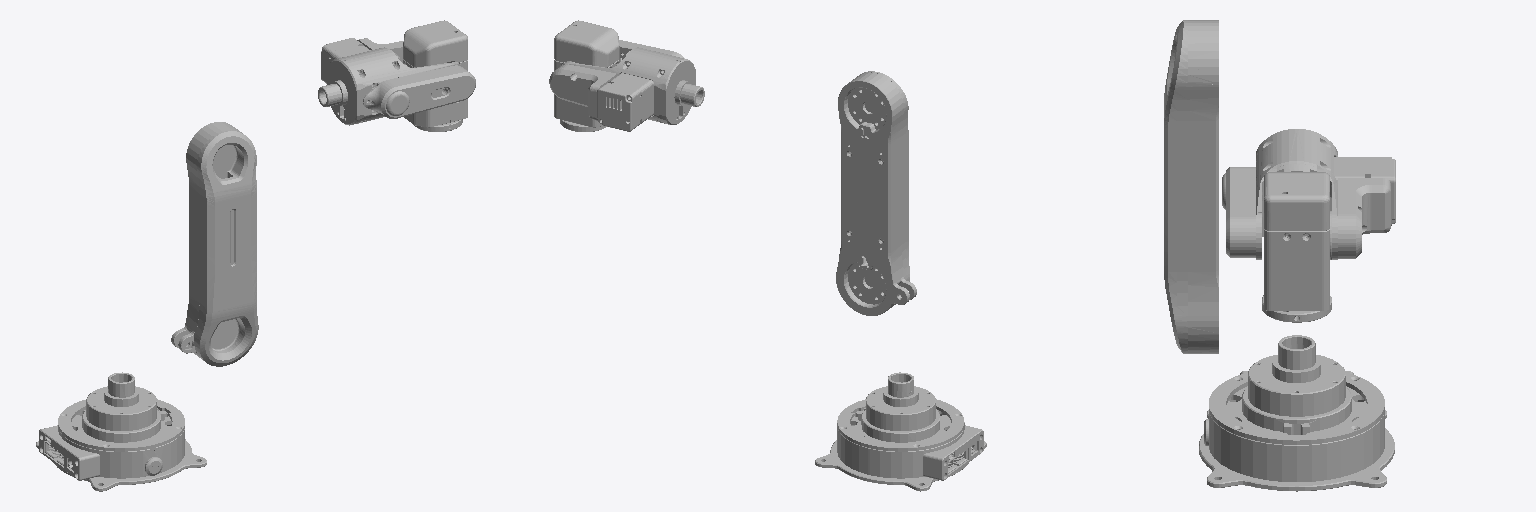
The robot description file, URDF, robot "wlkata_haro380_description":
<?xml version="1.0" encoding="utf-8"?>
<!-- This URDF was automatically created by SolidWorks to URDF Exporter! Originally created by Stephen Brawner (brawner@gmail.com) 
     Commit Version: 1.6.0-4-g7f85cfe  Build Version: 1.6.7995.38578
     For more information, please see http://wiki.ros.org/sw_urdf_exporter -->
<robot
  name="wlkata_haro380_description">
  <link
    name="base_link">
    <inertial>
      <origin
        xyz="-0.0025782 -0.00097364 0.018547"
        rpy="0 0 0" />
      <mass
        value="0.64687" />
      <inertia
        ixx="0.00045823"
        ixy="2.0774E-08"
        ixz="5.7263E-06"
        iyy="0.00042235"
        iyz="1.2147E-06"
        izz="0.00070695" />
    </inertial>
    <visual>
      <origin
        xyz="0 0 0"
        rpy="0 0 0" />
      <geometry>
        <mesh
          filename="package://wlkata_haro380_description/meshes/base_link.STL" />
      </geometry>
      <material
        name="">
        <color
          rgba="0.75294 0.75294 0.75294 1" />
      </material>
    </visual>
    <collision>
      <origin
        xyz="0 0 0"
        rpy="0 0 0" />
      <geometry>
        <mesh
          filename="package://wlkata_haro380_description/meshes/base_link.STL" />
      </geometry>
    </collision>
  </link>
  <link
    name="link1">
    <inertial>
      <origin
        xyz="0.013934 0.0042765 -0.018206"
        rpy="0 0 0" />
      <mass
        value="2.3532" />
      <inertia
        ixx="0.00085392"
        ixy="1.1941E-06"
        ixz="-4.1396E-05"
        iyy="0.0012482"
        iyz="2.3687E-07"
        izz="0.0015523" />
    </inertial>
    <visual>
      <origin
        xyz="0 0 0"
        rpy="0 0 0" />
      <geometry>
        <mesh
          filename="package://wlkata_haro380_description/meshes/link1.STL" />
      </geometry>
      <material
        name="">
        <color
          rgba="0.75294 0.75294 0.75294 1" />
      </material>
    </visual>
    <collision>
      <origin
        xyz="0 0 0"
        rpy="0 0 0" />
      <geometry>
        <mesh
          filename="package://wlkata_haro380_description/meshes/link1.STL" />
      </geometry>
    </collision>
  </link>
  <joint
    name="joint1"
    type="revolute">
    <origin
      xyz="0 0 0.1046"
      rpy="0 0 0" />
    <parent
      link="base_link" />
    <child
      link="link1" />
    <axis
      xyz="0 0 1" />
    <limit
      lower="-2.443"
      upper="3.316"
      effort="100.1"
      velocity="3.14" />
  </joint>
  <link
    name="link2">
    <inertial>
      <origin
        xyz="0.066111 -0.00022303 -0.053301"
        rpy="0 0 0" />
      <mass
        value="0.70509" />
      <inertia
        ixx="0.00016347"
        ixy="-1.0521E-05"
        ixz="2.224E-06"
        iyy="0.0020532"
        iyz="-2.4325E-08"
        izz="0.0021981" />
    </inertial>
    <visual>
      <origin
        xyz="0 0 0"
        rpy="0 0 0" />
      <geometry>
        <mesh
          filename="package://wlkata_haro380_description/meshes/link2.STL" />
      </geometry>
      <material
        name="">
        <color
          rgba="0.75294 0.75294 0.75294 1" />
      </material>
    </visual>
    <collision>
      <origin
        xyz="0 0 0"
        rpy="0 0 0" />
      <geometry>
        <mesh
          filename="package://wlkata_haro380_description/meshes/link2.STL" />
      </geometry>
    </collision>
  </link>
  <joint
    name="joint2"
    type="revolute">
    <origin
      xyz="0.052 0 0"
      rpy="-1.5708 -1.5708 0" />
    <parent
      link="link1" />
    <child
      link="link2" />
    <axis
      xyz="0 0 1" />
    <limit
      lower="-1.134"
      upper="1.396"
      effort="100.1"
      velocity="3.14" />
  </joint>
  <link
    name="link3">
    <inertial>
      <origin
        xyz="0.001531 0.027409 0.00019341"
        rpy="0 0 0" />
      <mass
        value="0.85005" />
      <inertia
        ixx="0.00065207"
        ixy="5.3756E-06"
        ixz="3.4717E-07"
        iyy="0.00021422"
        iyz="-2.0836E-07"
        izz="0.00076327" />
    </inertial>
    <visual>
      <origin
        xyz="0 0 0"
        rpy="0 0 0" />
      <geometry>
        <mesh
          filename="package://wlkata_haro380_description/meshes/link3.STL" />
      </geometry>
      <material
        name="">
        <color
          rgba="0.75294 0.75294 0.75294 1" />
      </material>
    </visual>
    <collision>
      <origin
        xyz="0 0 0"
        rpy="0 0 0" />
      <geometry>
        <mesh
          filename="package://wlkata_haro380_description/meshes/link3.STL" />
      </geometry>
    </collision>
  </link>
  <joint
    name="joint3"
    type="revolute">
    <origin
      xyz="0.136 0 0"
      rpy="0 0 0" />
    <parent
      link="link2" />
    <child
      link="link3" />
    <axis
      xyz="0 0 1" />
    <limit
      lower="-3.228"
      upper="1.221"
      effort="100.1"
      velocity="3.14" />
  </joint>
  <link
    name="link4">
    <inertial>
      <origin
        xyz="3.3182E-05 -0.0076325 -0.047763"
        rpy="0 0 0" />
      <mass
        value="0.61923" />
      <inertia
        ixx="0.00020214"
        ixy="2.2893E-08"
        ixz="1.7895E-07"
        iyy="0.00024768"
        iyz="-2.9389E-06"
        izz="0.0001009" />
    </inertial>
    <visual>
      <origin
        xyz="0 0 0"
        rpy="0 0 0" />
      <geometry>
        <mesh
          filename="package://wlkata_haro380_description/meshes/link4.STL" />
      </geometry>
      <material
        name="">
        <color
          rgba="0.75294 0.75294 0.75294 1" />
      </material>
    </visual>
    <collision>
      <origin
        xyz="0 0 0"
        rpy="0 0 0" />
      <geometry>
        <mesh
          filename="package://wlkata_haro380_description/meshes/link4.STL" />
      </geometry>
    </collision>
  </link>
  <joint
    name="joint4"
    type="revolute">
    <origin
      xyz="0 0.2055 0"
      rpy="-1.5708 0 0" />
    <parent
      link="link3" />
    <child
      link="link4" />
    <axis
      xyz="0 0 1" />
    <limit
      lower="-2.705"
      upper="2.705"
      effort="100.1"
      velocity="3.14" />
  </joint>
  <link
    name="link5">
    <inertial>
      <origin
        xyz="-0.0018707 0.0077396 0.00033578"
        rpy="0 0 0" />
      <mass
        value="0.23148" />
      <inertia
        ixx="4.8926E-05"
        ixy="2.3932E-07"
        ixz="-9.0887E-08"
        iyy="6.6123E-05"
        iyz="-3.1892E-08"
        izz="5.9413E-05" />
    </inertial>
    <visual>
      <origin
        xyz="0 0 0"
        rpy="0 0 0" />
      <geometry>
        <mesh
          filename="package://wlkata_haro380_description/meshes/link5.STL" />
      </geometry>
      <material
        name="">
        <color
          rgba="0.75294 0.75294 0.75294 1" />
      </material>
    </visual>
    <collision>
      <origin
        xyz="0 0 0"
        rpy="0 0 0" />
      <geometry>
        <mesh
          filename="package://wlkata_haro380_description/meshes/link5.STL" />
      </geometry>
    </collision>
  </link>
  <joint
    name="joint5"
    type="revolute">
    <origin
      xyz="0 0 0"
      rpy="1.5708 -1.5708 0" />
    <parent
      link="link4" />
    <child
      link="link5" />
    <axis
      xyz="0 0 1" />
    <limit
      lower="-3.577"
      upper="0.349"
      effort="100.1"
      velocity="3.14" />
  </joint>
  <link
    name="link6">
    <inertial>
      <origin
        xyz="-7.7114E-05 -4.2313E-05 0.037685"
        rpy="0 0 0" />
      <mass
        value="0.033351" />
      <inertia
        ixx="3.2809E-06"
        ixy="1.4871E-08"
        ixz="-1.2411E-10"
        iyy="3.1245E-06"
        iyz="-1.0678E-10"
        izz="6.1112E-06" />
    </inertial>
    <visual>
      <origin
        xyz="0 0 0"
        rpy="0 0 0" />
      <geometry>
        <mesh
          filename="package://wlkata_haro380_description/meshes/link6.STL" />
      </geometry>
      <material
        name="">
        <color
          rgba="0.75294 0.75294 0.75294 1" />
      </material>
    </visual>
    <collision>
      <origin
        xyz="0 0 0"
        rpy="0 0 0" />
      <geometry>
        <mesh
          filename="package://wlkata_haro380_description/meshes/link6.STL" />
      </geometry>
    </collision>
  </link>
  <joint
    name="joint6"
    type="revolute">
    <origin
      xyz="0 0 0"
      rpy="-1.5708 0 0" />
    <parent
      link="link5" />
    <child
      link="link6" />
    <axis
      xyz="0 0 -1" />
    <limit
      lower="-3.141"
      upper="3.141"
      effort="100.1"
      velocity="3.14" />
  </joint>
</robot>

--- Render facts (derived) ---
Views: 3 orthographic renders of the robot side by side, from view 1: azimuth 30°, elevation 25°; view 2: azimuth 150°, elevation 25°; view 3: azimuth 270°, elevation 25°.
Robot: wlkata_haro380_description — 7 links, 6 joints (6 revolute); root link base_link; default pose: all joints at 0.
Visible links, largest first — view 1: link2, base_link, link4, link5; view 2: link2, base_link, link4, link5; view 3: base_link, link2, link4, link5, link6.
Link boxes in pixels (box(x1,y1,x2,y2)): link2: box(171, 122, 258, 366); base_link: box(36, 372, 206, 491); link4: box(318, 38, 475, 125); link5: box(403, 20, 467, 127); link2: box(836, 71, 916, 315); base_link: box(815, 372, 986, 491); link4: box(549, 40, 704, 131); link5: box(554, 20, 619, 127); base_link: box(1199, 335, 1394, 491); link2: box(1164, 20, 1218, 353); link4: box(1222, 129, 1395, 259); link5: box(1264, 172, 1331, 310); link6: box(1262, 295, 1331, 322).
Bounding box of the posed robot: 0.3265 × 0.1178 × 0.27 m (x, y, z).
Meshes: 7 distinct files referenced, 5 mesh visuals loaded (5 binary STL); not drawn: 2 (reference not matched to a file when rendering).
